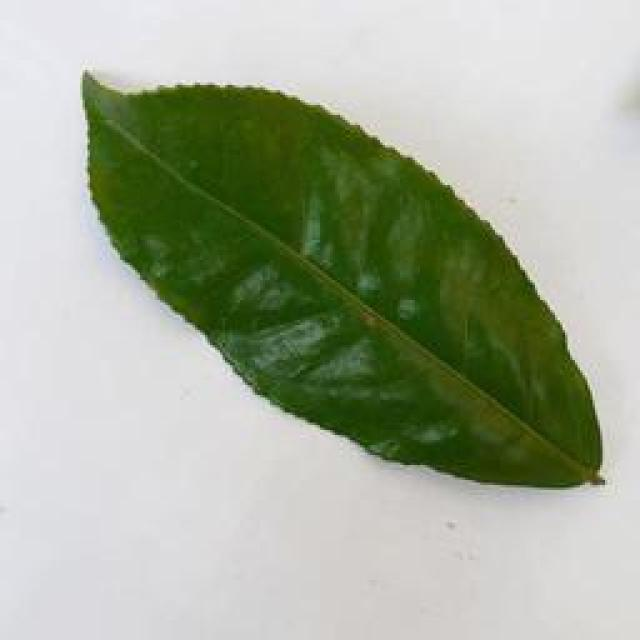Healthy: (78, 66, 614, 492)
